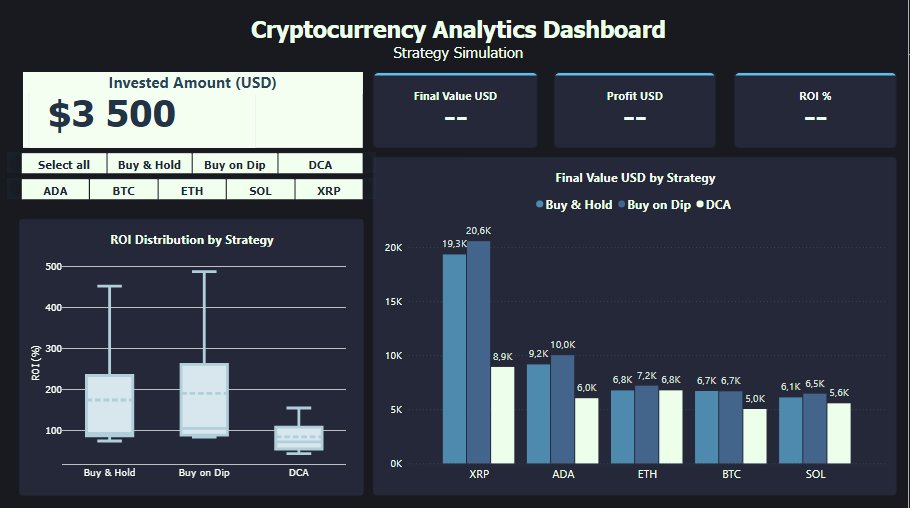

What the dashboard file says about the page in this screenshot:
{"tool":"powerbi","page":{"name":"Strategy Simulation","canvas":[1280,720],"ordinal":1},"visuals":[{"type":"cardVisual","fields":{"Data":["sim_results.Final Value USD"]},"box":[526.2,104,232.2,107],"z":0},{"type":"slicer","title":"jhguhkj","fields":{"Values":["InvestedAmount.InvestedAmount"]},"box":[32.3,104,479,107.3],"z":1000},{"type":"cardVisual","fields":{"Data":["sim_results.ROI %"]},"box":[1034.3,104,229.2,107],"z":2000},{"type":"cardVisual","fields":{"Data":["sim_results.Profit USD"]},"box":[781,104,227.7,107],"z":3000},{"type":"boxandwhiskerwithpoints6C29D629F202A5FF5B6B023486584FCA","title":"ROI Distribution by Strategy","fields":{"col_0":["sim_results.strategy"],"col_3":["sim_results.roi_pct"]},"box":[27.1,311.4,485.7,390],"z":4000},{"type":"textbox","box":[52.8,24.1,1188,79.9],"z":5000},{"type":"clusteredColumnChart","title":"Final Value USD by Strategy","fields":{"Series":["sim_results.strategy"],"Category":["market_daily.symbol"],"Y":["sim_results.Final Value USD"]},"box":[525.8,224.2,737.9,476.6],"z":6000},{"type":"slicer","fields":{"Values":["market_daily.symbol"]},"box":[10,254,520,30],"z":7000},{"type":"slicer","fields":{"Values":["sim_results.strategy"]},"box":[10,217.1,520,30],"z":8000},{"type":"textbox","box":[32.9,104.3,478.6,31.4],"z":9000}]}

Visuals, with their boxes in screenshot pixels (x1, y1, x2, y2), scaled from the page's 1280x720 canvas onto the 910x508 screenshot:
cardVisual - sim_results.Final Value USD: l=374, t=73, r=539, b=149
"jhguhkj" slicer: l=23, t=73, r=364, b=149
cardVisual - sim_results.ROI %: l=735, t=73, r=898, b=149
cardVisual - sim_results.Profit USD: l=555, t=73, r=717, b=149
"ROI Distribution by Strategy" boxandwhiskerwithpoints6C29D629F202A5FF5B6B023486584FCA: l=19, t=220, r=365, b=495
textbox: l=38, t=17, r=882, b=73
"Final Value USD by Strategy" clusteredColumnChart: l=374, t=158, r=898, b=494
slicer - market_daily.symbol: l=7, t=179, r=377, b=200
slicer - sim_results.strategy: l=7, t=153, r=377, b=174
textbox: l=23, t=74, r=364, b=96
